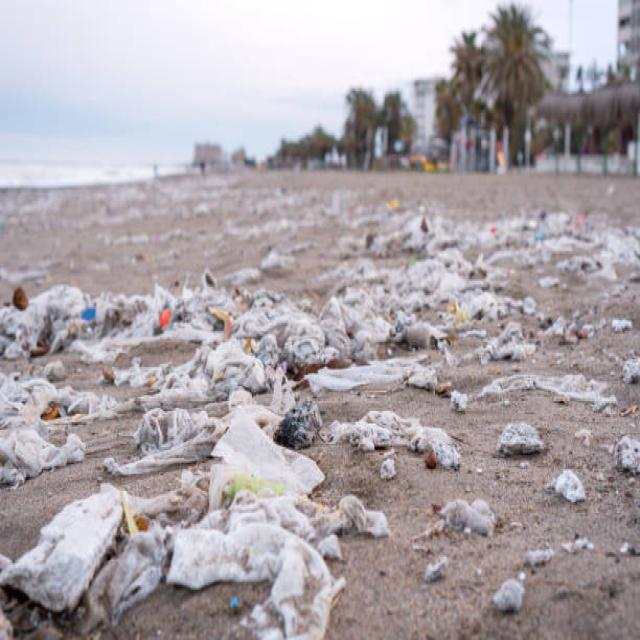plastic: (204, 420, 343, 516)
